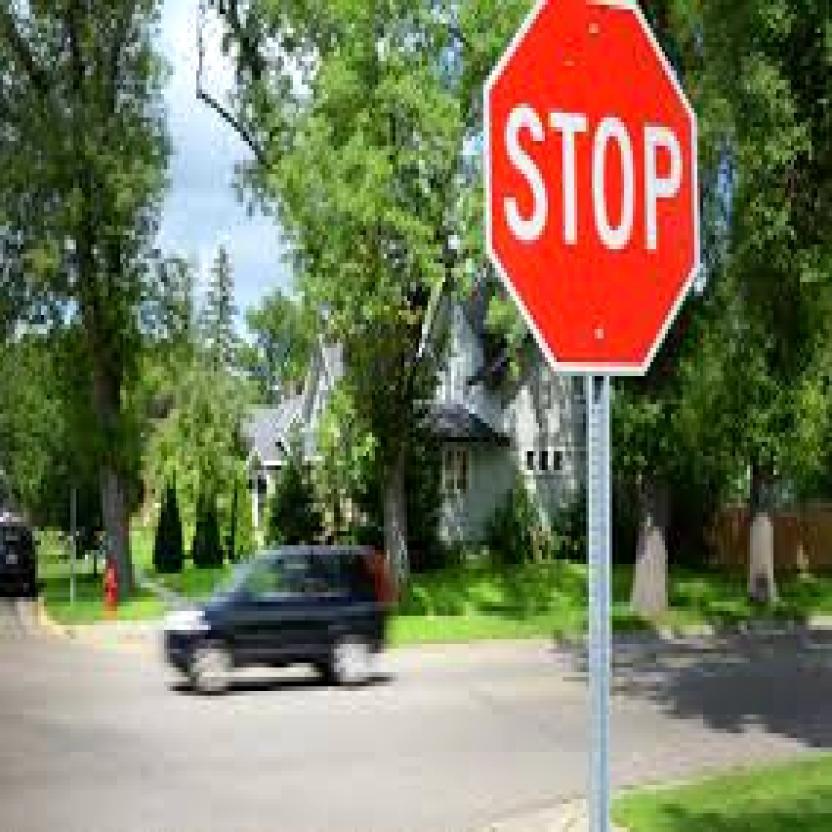Pole: (585, 378, 608, 830)
Sign: (483, 0, 697, 371)
